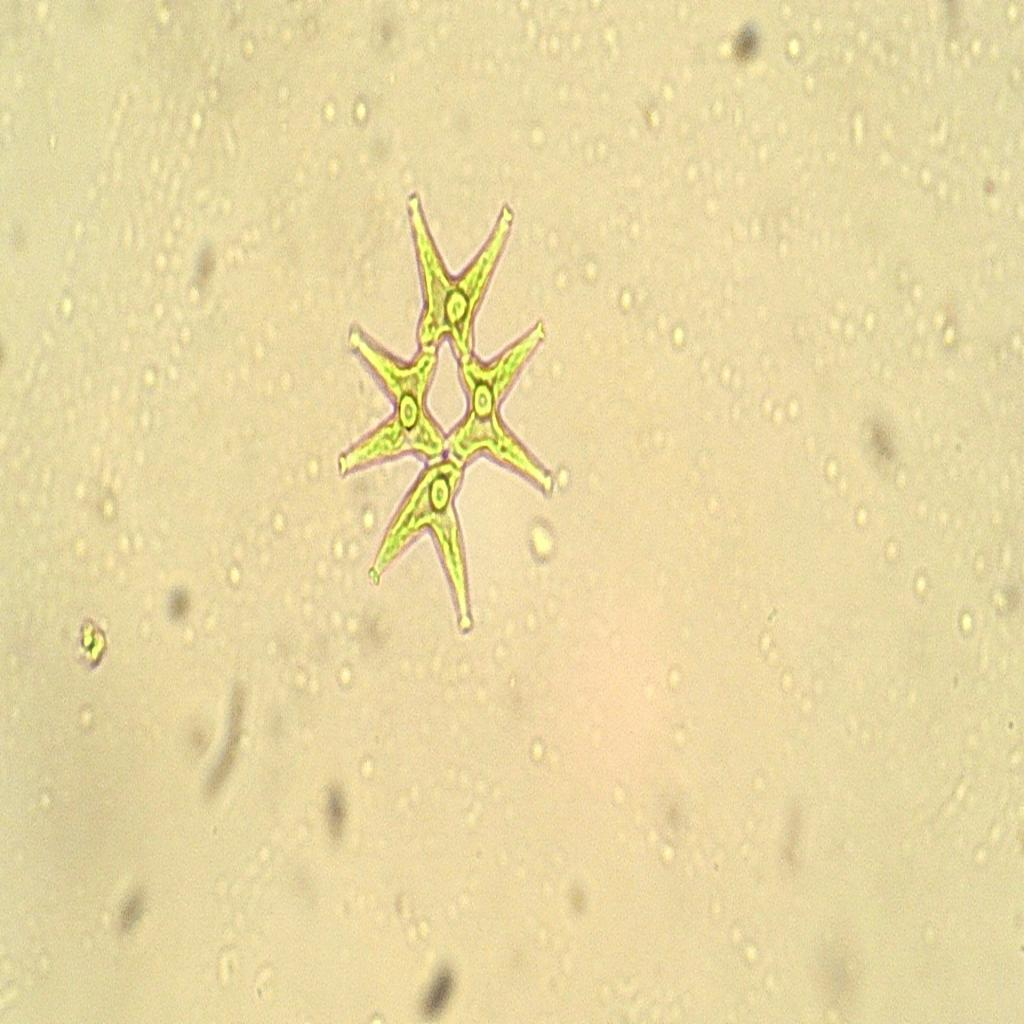Pediastrum_75FI: (326, 132, 558, 659)
